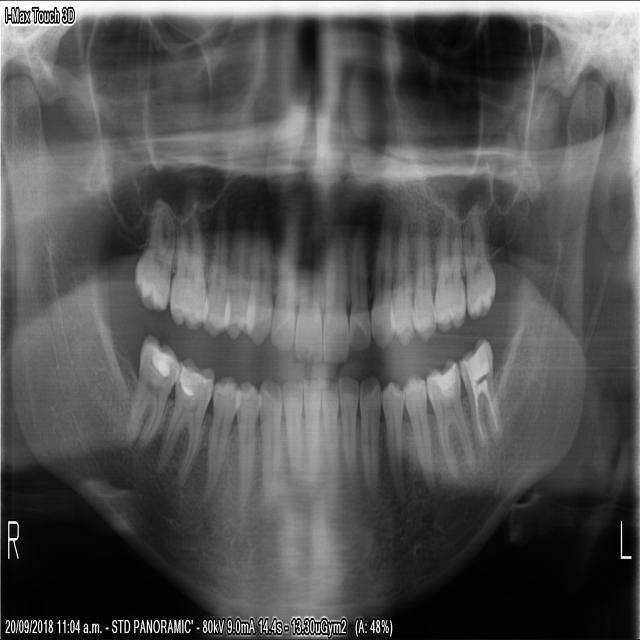LCD: (354, 365, 382, 496)
LCU: (368, 212, 395, 353)
LID: (335, 367, 358, 476), (317, 371, 340, 478)
LIU: (321, 230, 350, 367), (347, 217, 371, 355)
LMD: (421, 351, 475, 488), (457, 328, 505, 449)
LMU: (460, 199, 498, 322), (432, 200, 465, 334)
LPMD: (400, 366, 437, 500), (378, 370, 407, 506)
LPMU: (386, 209, 414, 350), (411, 207, 435, 343)
RCD: (254, 372, 284, 510)
RCU: (240, 203, 273, 355)
RID: (278, 367, 306, 484), (299, 370, 323, 488)
RIU: (268, 198, 302, 357), (289, 209, 323, 368)
RMD: (152, 356, 216, 493), (120, 329, 180, 457)
RMU: (166, 185, 210, 337), (129, 193, 176, 318)
RPMD: (196, 364, 242, 518), (230, 373, 263, 512)
RPMU: (220, 196, 255, 347), (198, 185, 231, 342)
